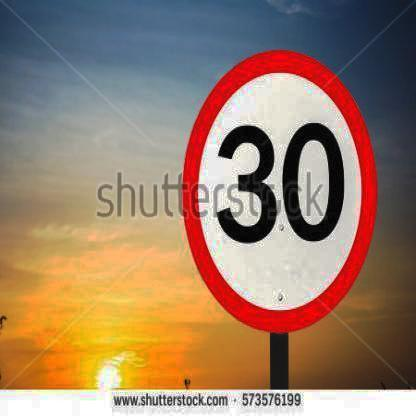Speed Limit -30-: (179, 50, 381, 339)
